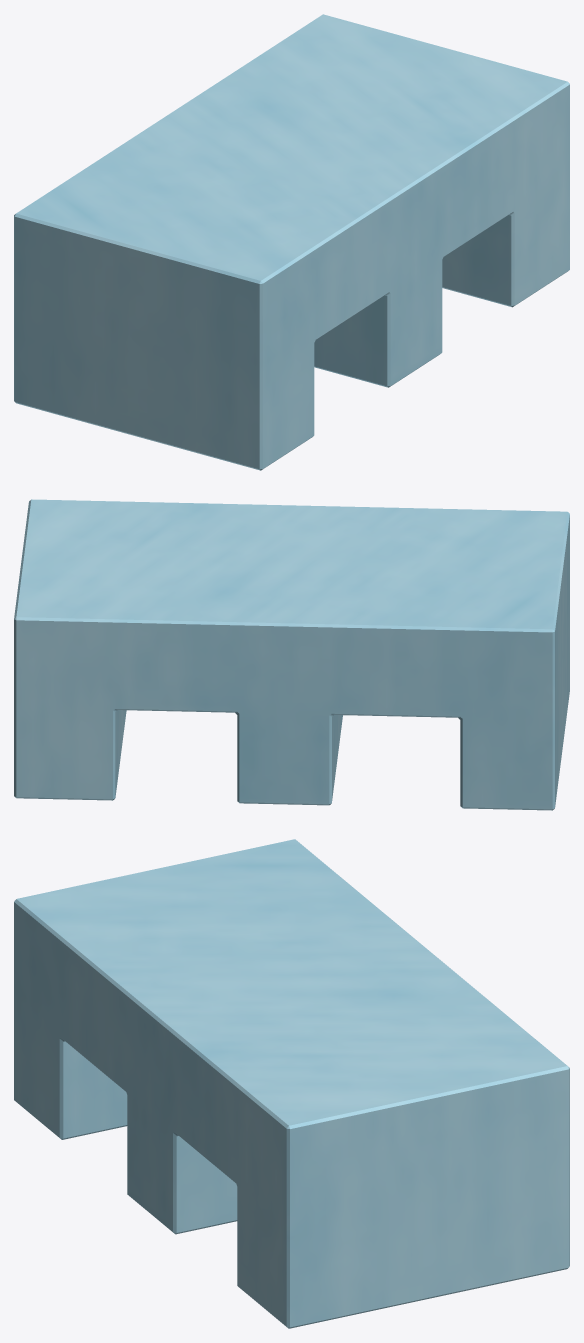
Rendered from block2.fbx.
3 views of the same model, one above another, from view 1: azimuth 30°, elevation 25°; view 2: azimuth 150°, elevation 25°; view 3: azimuth 270°, elevation 25° (orthographic). The views are drawn at different scales.
Visible parts, largest first — view 1: block2; view 2: block2; view 3: block2.
Boxes of the visible parts, x1,y1,x2,y2 form: block2: (14, 14, 569, 470); block2: (14, 499, 569, 810); block2: (14, 839, 569, 1328).
Bounding box in the file's own units: 1.94 × 0.6361 × 1.58.
